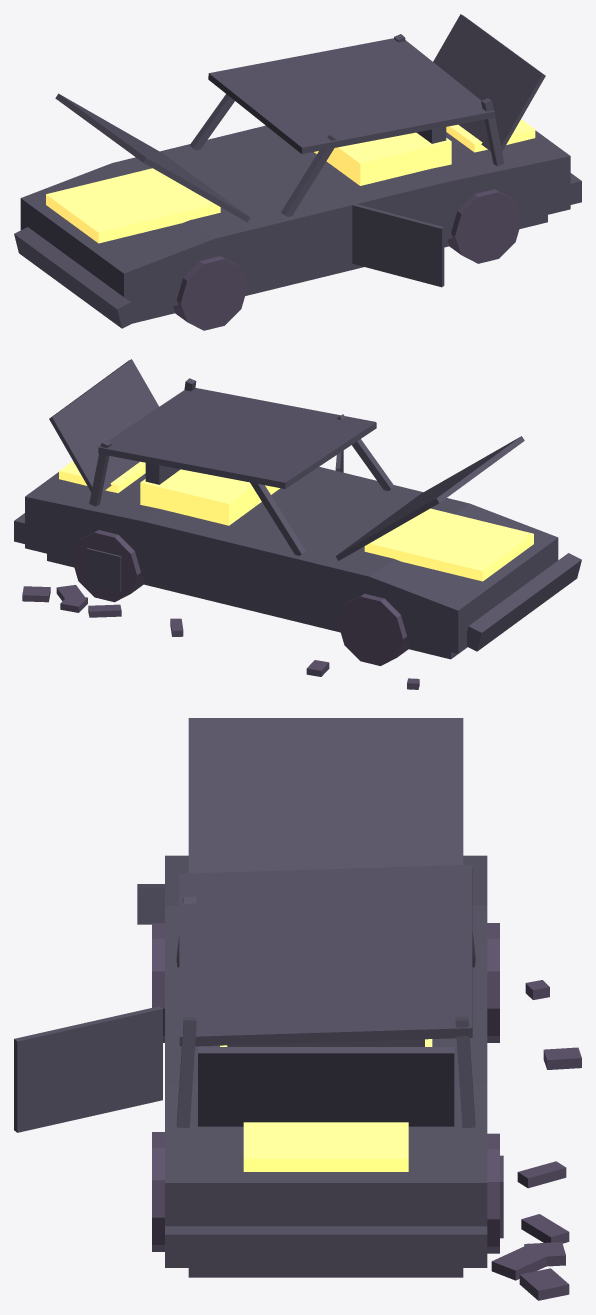
File: CarWreck.glb
3 views of the same model, one above another, from view 1: azimuth 30°, elevation 25°; view 2: azimuth 150°, elevation 25°; view 3: azimuth 270°, elevation 25° (orthographic). The views are drawn at different scales.
Parts seen in each view (by area): view 1: chassis, roof, wheel (×2), ember-engine, trunk-lid, door, ember, bumper, hood, pillar (×3), base, ember-trunk; view 2: chassis, roof, ember-engine, trunk-lid, wheel (×2), ember, bumper, hood, pillar (×3), base, wheel-rim, ember-trunk (+2 smaller); view 3: roof, hood, chassis, trunk-lid, bumper (×2), door, ember-trunk, wheel (×4), pillar (×2), base, debris-6, debris-1 (+5 smaller).
Boxes of the visible parts, x1=… form: chassis: x1=20, y1=125, x2=570, y2=315; roof: x1=208, y1=38, x2=494, y2=153; wheel (×2): x1=173, y1=189, x2=521, y2=330; ember-engine: x1=46, y1=168, x2=220, y2=243; trunk-lid: x1=433, y1=14, x2=545, y2=151; door: x1=352, y1=203, x2=444, y2=287; ember: x1=314, y1=132, x2=451, y2=185; bumper: x1=14, y1=227, x2=135, y2=328; hood: x1=55, y1=93, x2=250, y2=222; pillar (×3): x1=189, y1=94, x2=504, y2=216; base: x1=133, y1=215, x2=547, y2=323; ember-trunk: x1=446, y1=119, x2=535, y2=152; chassis: x1=25, y1=466, x2=558, y2=653; roof: x1=98, y1=388, x2=376, y2=488; ember-engine: x1=364, y1=508, x2=533, y2=581; trunk-lid: x1=49, y1=359, x2=158, y2=492; wheel (×2): x1=72, y1=530, x2=410, y2=665; ember: x1=140, y1=469, x2=279, y2=525; bumper: x1=467, y1=553, x2=581, y2=651; hood: x1=335, y1=436, x2=524, y2=560; pillar (×3): x1=89, y1=414, x2=394, y2=555; base: x1=47, y1=554, x2=457, y2=659; wheel-rim: x1=86, y1=548, x2=121, y2=591; ember-trunk: x1=59, y1=461, x2=145, y2=492; roof: x1=179, y1=864, x2=472, y2=1046; hood: x1=188, y1=718, x2=463, y2=873; chassis: x1=165, y1=855, x2=487, y2=1226; trunk-lid: x1=198, y1=1047, x2=454, y2=1126; bumper (×2): x1=137, y1=884, x2=487, y2=1267; door: x1=14, y1=1006, x2=162, y2=1132; ember-trunk: x1=243, y1=1122, x2=408, y2=1171; wheel (×4): x1=152, y1=923, x2=499, y2=1253; pillar (×2): x1=176, y1=1016, x2=475, y2=1128; base: x1=188, y1=1268, x2=463, y2=1277; debris-6: x1=491, y1=1246, x2=546, y2=1280; debris-1: x1=519, y1=1268, x2=569, y2=1300.
Bounding box in the file's own units: 4.66 × 1.67 × 3.1.
